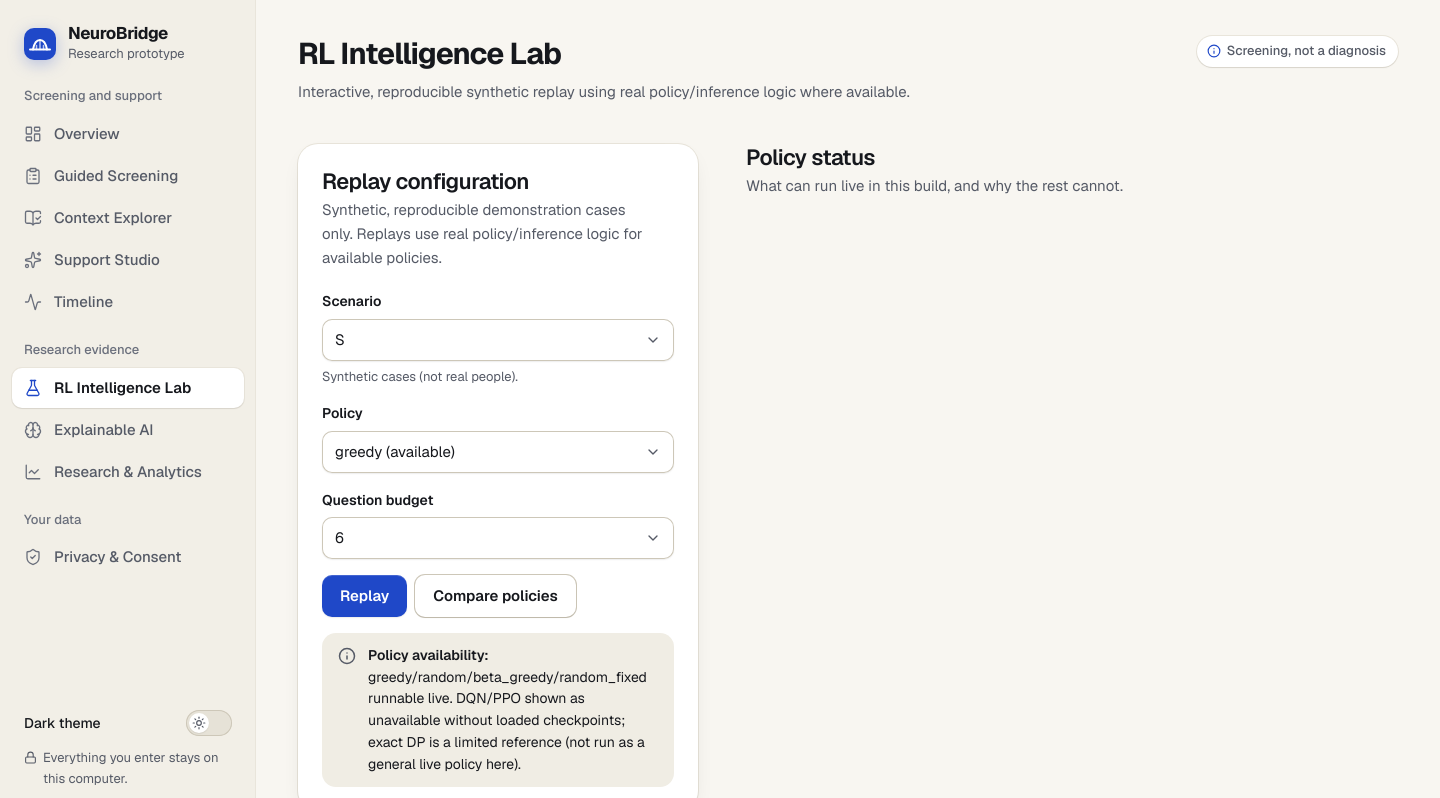
Scenario: RL Intelligence Lab › shows a failed replay message rather than stale data
Click the button "Replay" at (365, 596), box [322,575,407,617]
(page scrolled)
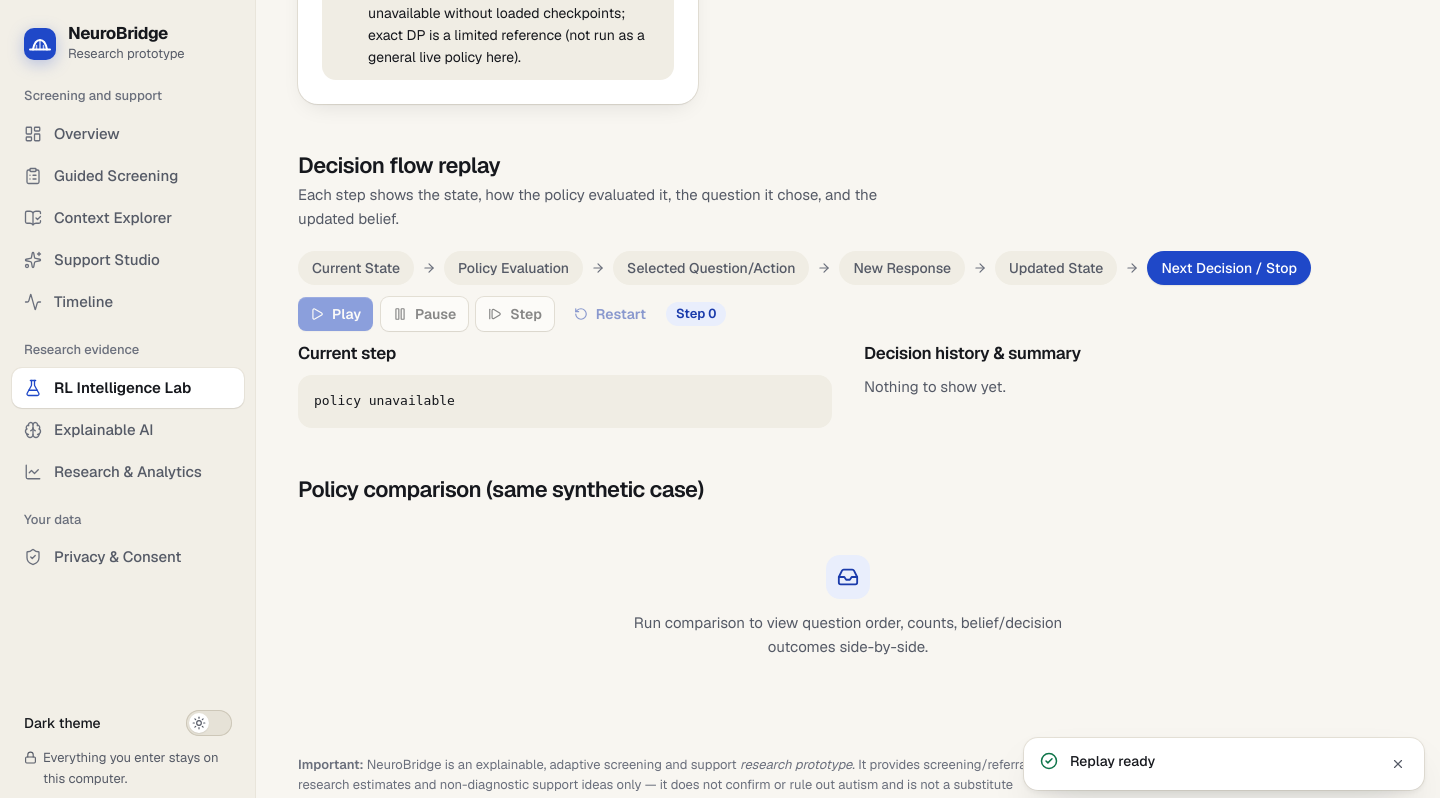
Now the text "policy unavailable" is shown, box [298,375,832,428]
